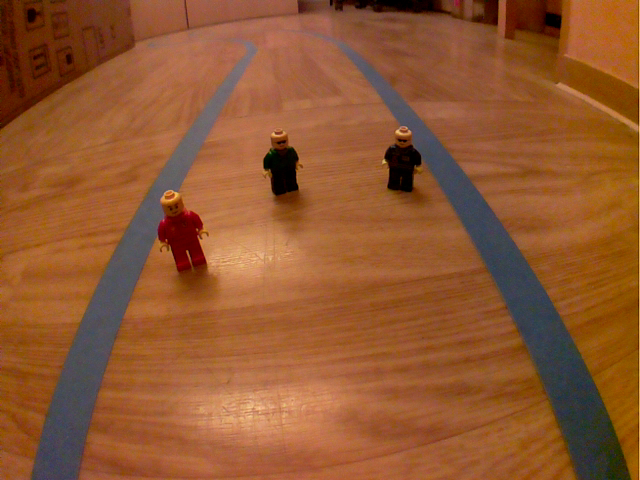Postac LEGO: (148, 185, 216, 279), (256, 124, 307, 200), (380, 122, 427, 197)
